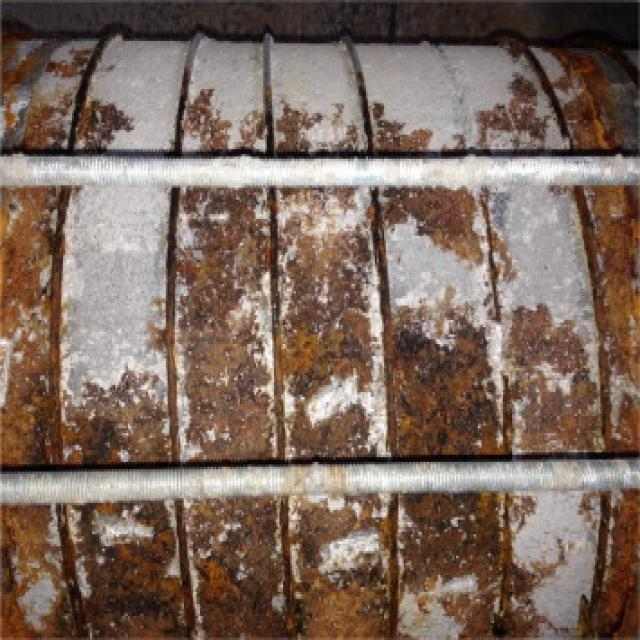corrosion: (373, 183, 513, 459), (0, 499, 194, 638), (399, 493, 502, 597)
